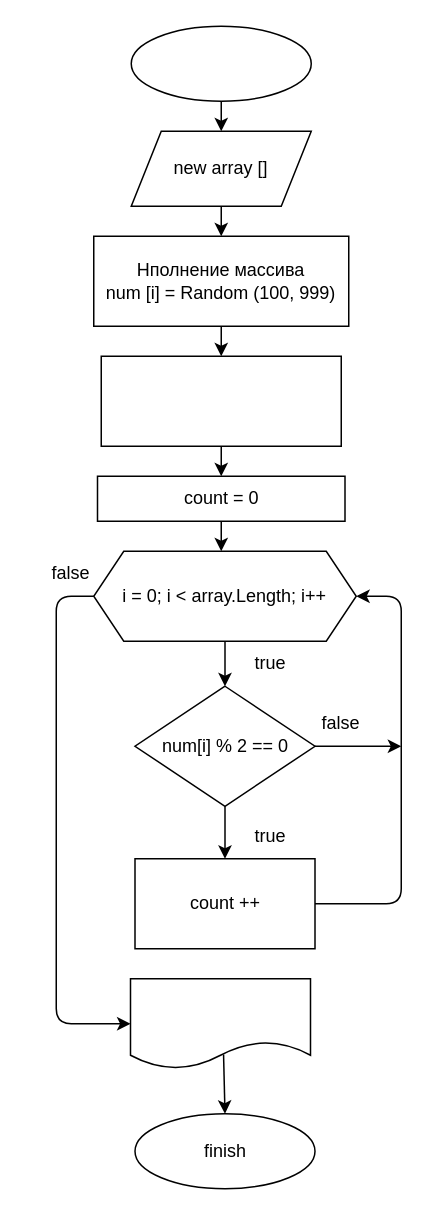
Image size: 440x1215. Some labels were removed from this diagram. The centre of each missing label's shape, as x and y in pixels:
"count" belongs at [219,1023].
"start" belongs at [220,63].
"вывод массива на экран" belongs at [220,400].
